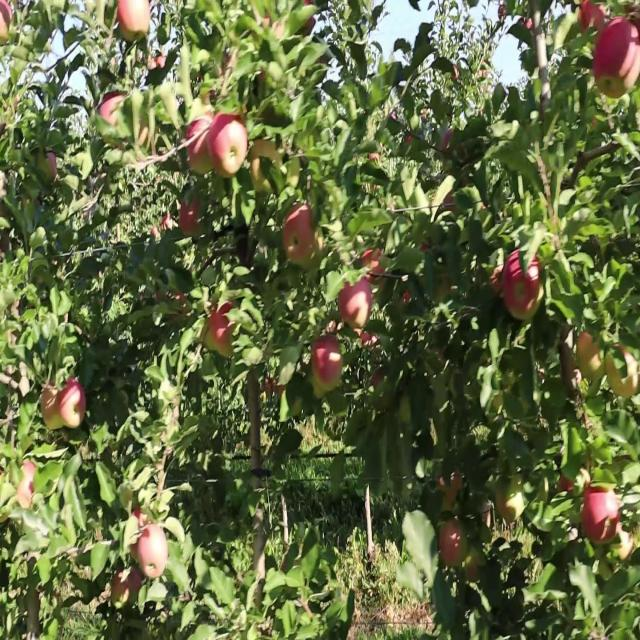apple: (504, 248, 543, 324), (280, 206, 326, 268), (596, 21, 640, 80), (584, 483, 621, 548), (212, 113, 248, 178), (608, 341, 640, 404), (136, 526, 170, 581), (312, 334, 344, 389), (344, 277, 375, 332), (208, 305, 238, 359), (116, 0, 152, 44), (60, 376, 88, 430), (252, 142, 279, 196), (560, 334, 583, 396), (340, 277, 368, 327), (188, 120, 212, 178), (576, 334, 605, 382), (440, 519, 466, 571), (40, 383, 64, 434), (496, 483, 524, 526), (621, 30, 640, 91), (560, 348, 584, 396), (576, 0, 607, 37), (100, 92, 125, 137), (440, 469, 464, 510), (16, 462, 36, 510), (364, 248, 386, 290), (112, 568, 140, 601), (180, 199, 201, 238), (36, 149, 59, 183), (616, 526, 636, 565), (120, 568, 144, 599), (340, 284, 357, 327), (625, 49, 640, 94), (624, 7, 640, 48), (600, 78, 626, 103), (560, 469, 583, 494), (152, 213, 171, 240), (0, 7, 13, 46), (560, 469, 579, 494), (488, 270, 504, 299), (128, 568, 144, 596), (360, 327, 379, 348), (148, 56, 167, 76), (132, 511, 150, 530), (372, 369, 385, 389), (400, 291, 413, 309)
